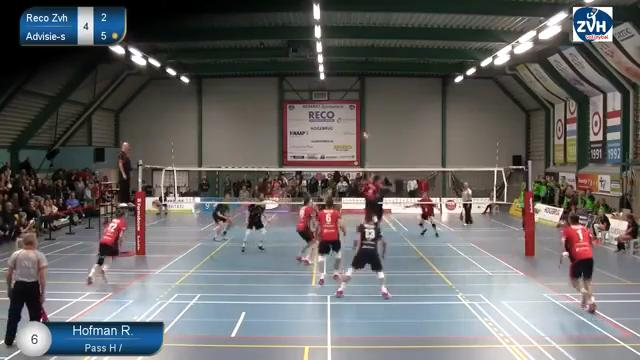Player: (336, 214, 390, 298), (560, 212, 595, 313), (87, 207, 125, 284), (317, 197, 345, 284), (241, 193, 267, 252), (296, 196, 316, 265), (407, 193, 438, 236), (363, 175, 383, 221), (213, 193, 231, 240)
ball: (361, 130, 369, 139)
